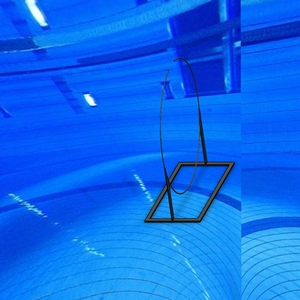circle: (144, 57, 237, 225)
